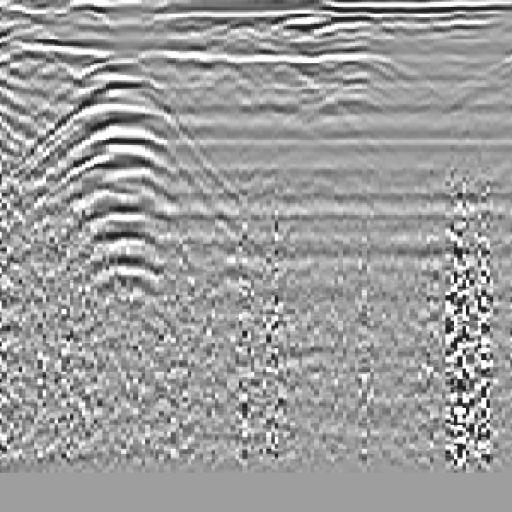metalic: (38, 64, 208, 309)
